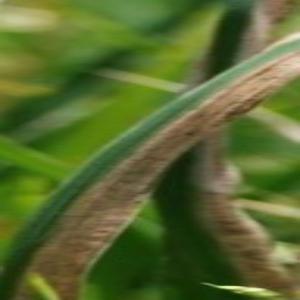Bacterial_Blight: (14, 125, 170, 298)
